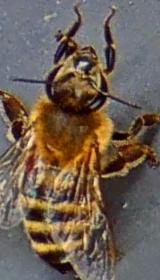varroa_mite: (15, 148, 45, 179)
